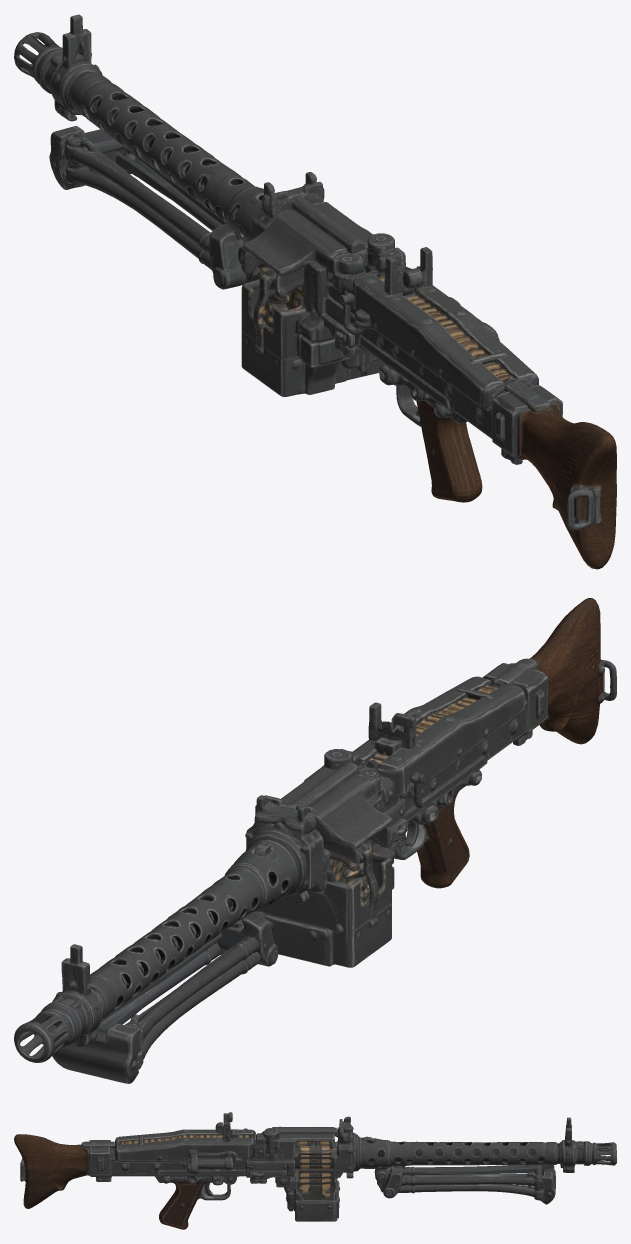
The picture shows the model from 3 angles, top to bottom: view 1: azimuth 30°, elevation 25°; view 2: azimuth 150°, elevation 25°; view 3: azimuth 270°, elevation 25°; orthographic projection. The views are drawn at different scales.
Parts seen in each view (by area): view 1: MG42, mg42_leaf_Mesh_0.001; view 2: MG42, mg42_leaf_Mesh_0.001; view 3: MG42, mg42_chargingHandle_Mesh_0.001, mg42_leaf_Mesh_0.001.
Boxes of the visible parts, x1,y1,x2,y2 form: MG42: [14, 14, 616, 569]; mg42_leaf_Mesh_0.001: [378, 247, 432, 295]; MG42: [14, 598, 616, 1083]; mg42_leaf_Mesh_0.001: [369, 702, 415, 748]; MG42: [14, 1116, 616, 1229]; mg42_chargingHandle_Mesh_0.001: [187, 1156, 233, 1174]; mg42_leaf_Mesh_0.001: [223, 1112, 232, 1142].
Bounding box in the file's own units: 0.1523 × 0.2475 × 1.22.
1 material, 1 textured.
